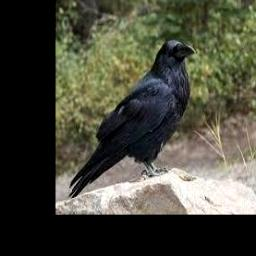Crow: (70, 39, 197, 198)
